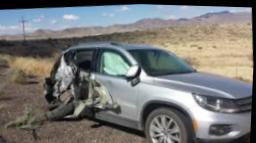Door: (43, 45, 115, 117)
